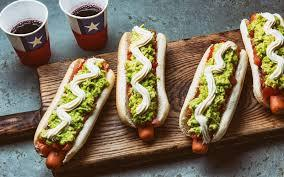Completos: (39, 58, 107, 168), (180, 36, 242, 151), (116, 30, 172, 137)
